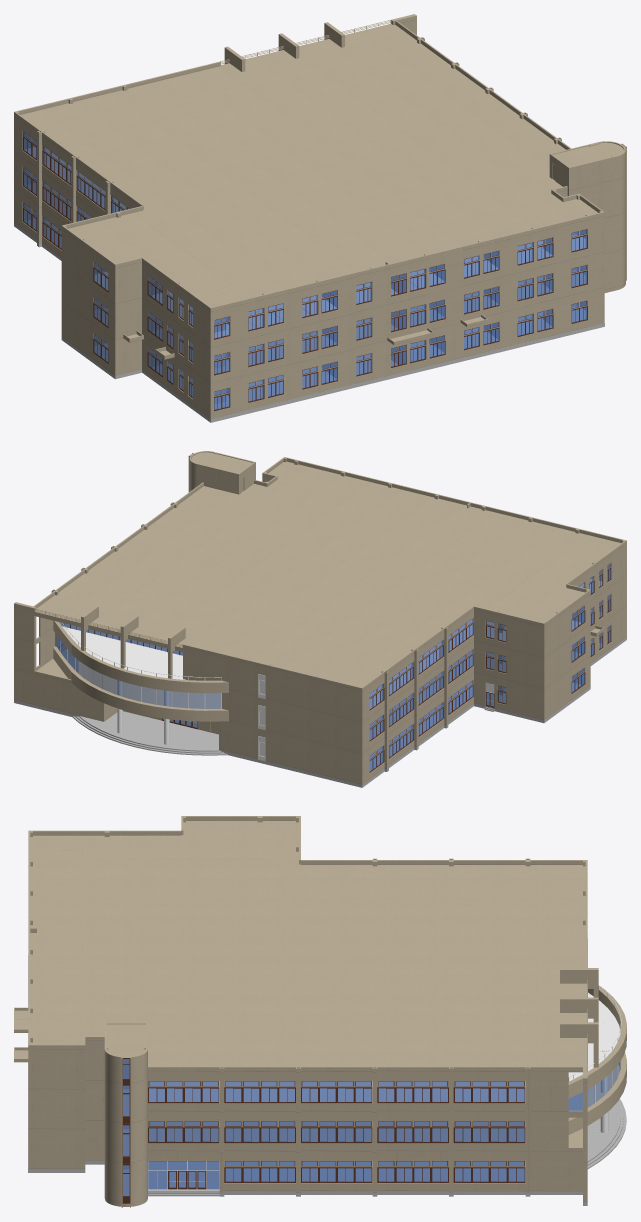
The model's file is BQST.dae.
The picture shows the model from 3 angles, top to bottom: view 1: azimuth 30°, elevation 25°; view 2: azimuth 150°, elevation 25°; view 3: azimuth 270°, elevation 25°; orthographic projection. The views are drawn at different scales.
Parts seen in each view (by area): view 1: pan_3, qiang_2, qiang, qiang_1, pan_1, pan, group_25, group_27, group_22; view 2: pan_3, qiang_2, qiang_1, qiang, pan_1, group_25, pan, 组件_77, group_24, group_27, group_22; view 3: pan_3, qiang_2, qiang, qiang_1, pan_1, group_25, pan, group_27, 组件_77, group_22, group_24.
Part boxes in pixels (<box>): pan_3: <box>20,23,597,306</box>; qiang_2: <box>14,14,626,347</box>; qiang: <box>14,151,626,383</box>; qiang_1: <box>14,187,626,419</box>; pan_1: <box>14,219,604,422</box>; pan: <box>25,147,585,337</box>; group_25: <box>25,183,585,373</box>; group_27: <box>224,22,344,71</box>; group_22: <box>553,142,624,166</box>; pan_3: <box>34,461,621,686</box>; qiang_2: <box>14,451,626,722</box>; qiang_1: <box>14,606,626,784</box>; qiang: <box>14,575,626,753</box>; pan_1: <box>14,637,626,787</box>; group_25: <box>36,610,601,750</box>; pan: <box>61,579,601,708</box>; 组件_77: <box>53,620,228,693</box>; group_24: <box>78,661,221,708</box>; group_27: <box>34,606,185,678</box>; group_22: <box>190,452,252,473</box>; pan_3: <box>30,821,587,1066</box>; qiang_2: <box>28,816,587,1124</box>; qiang: <box>14,1007,587,1164</box>; qiang_1: <box>28,1121,587,1207</box>; pan_1: <box>28,955,626,1205</box>; group_25: <box>149,1052,626,1152</box>; pan: <box>149,992,620,1102</box>; group_27: <box>560,968,598,1067</box>; 组件_77: <box>568,986,626,1098</box>; group_22: <box>106,1024,145,1057</box>; group_24: <box>587,1060,621,1107</box>.
Size of the model in its own units: 2574 by 2524 by 679.
Materials: 8 (5 with a texture image).
